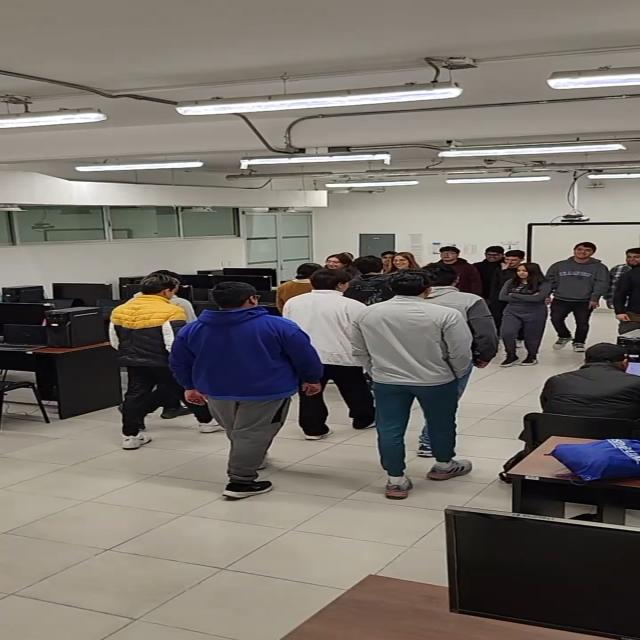Persona: (187, 282, 307, 479), (363, 273, 464, 462), (107, 274, 187, 399), (305, 277, 362, 422), (500, 264, 558, 356), (557, 244, 596, 346), (432, 242, 469, 266), (479, 249, 508, 276)
